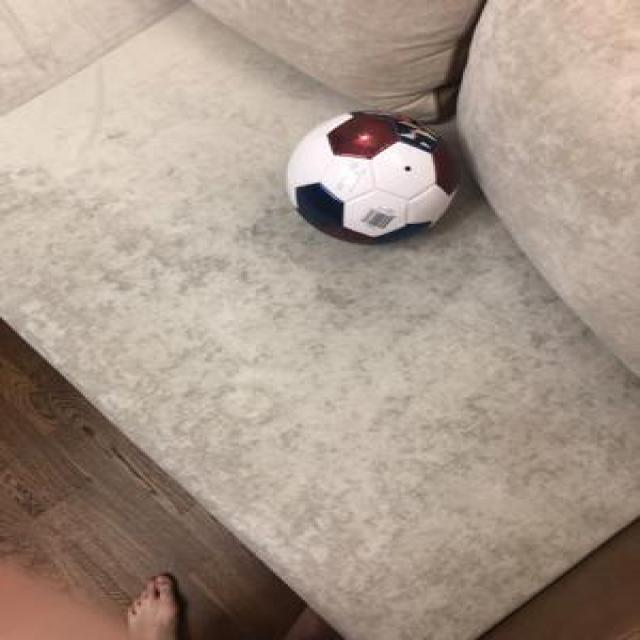Soccer Ball: (279, 108, 463, 246)
